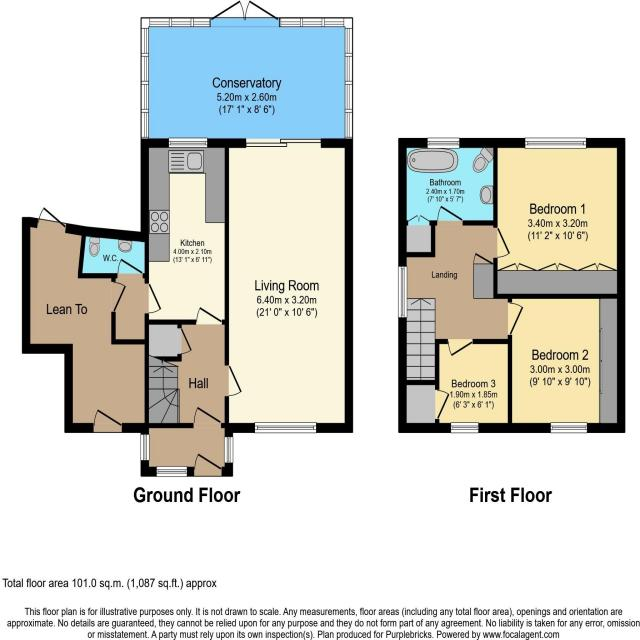DOOR: (92, 407, 124, 433), (193, 452, 223, 477), (192, 405, 222, 429), (224, 362, 243, 398), (493, 225, 512, 259), (436, 204, 464, 226), (508, 301, 525, 336), (144, 282, 162, 315), (195, 306, 223, 325), (447, 338, 473, 357), (435, 389, 450, 420)
ROOM: (224, 138, 353, 434), (493, 137, 625, 299), (140, 138, 230, 325), (508, 293, 626, 433), (435, 338, 512, 433)
SLIDING DOOR: (244, 133, 327, 151)
WINDOW: (254, 421, 318, 434), (524, 137, 587, 150), (397, 265, 408, 319), (550, 421, 588, 434), (168, 137, 208, 149), (426, 137, 461, 149), (156, 465, 188, 478), (450, 421, 479, 434), (223, 436, 234, 464), (140, 434, 150, 462)
